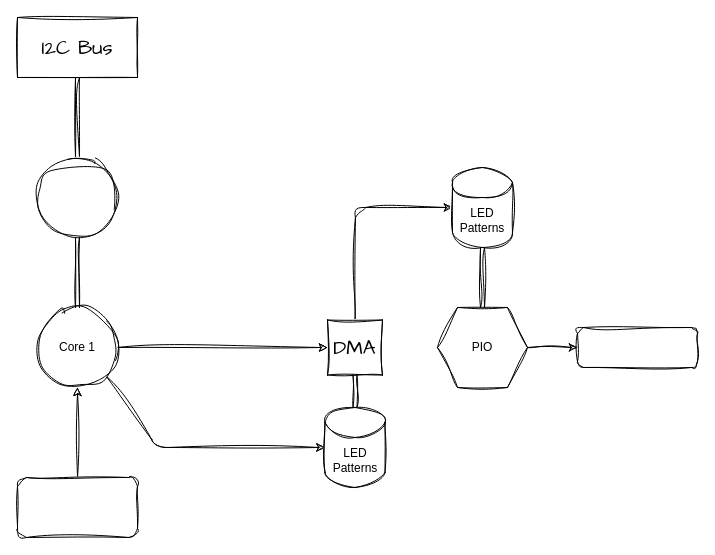
The diagram is 715 pixels wide and 555 high, and some of its shapes have lost their labels. The centre of each missing label's shape, as x and y in pixels:
"Core 0" goes at [77,197].
"NeoPixel Ring" goes at [637,347].
"Rotary / Push Encoder" goes at [77,507].
